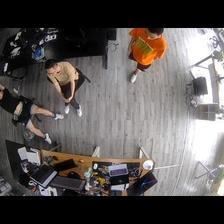normal: (125, 28, 168, 82)
